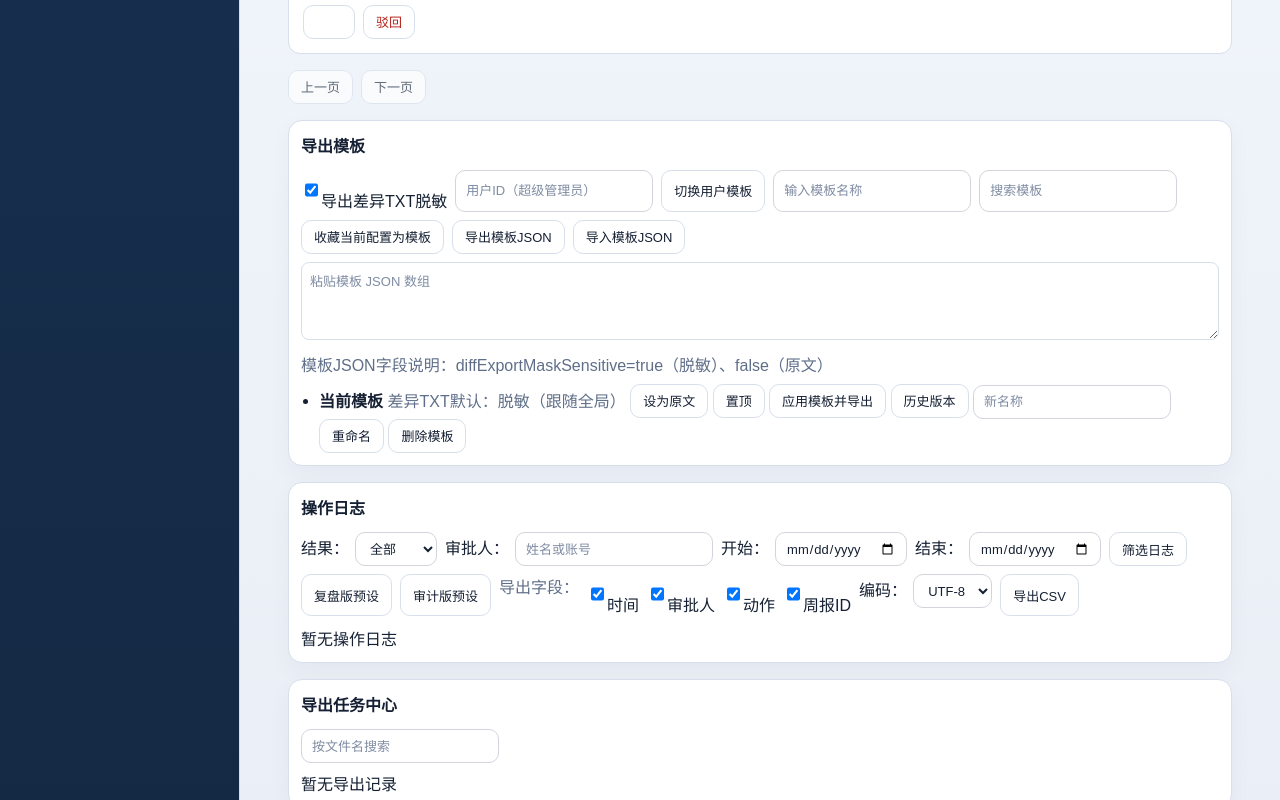
it: ManagerReviewsPage › can expand version diff details with field-level current and history values
(page scrolled)
Expected: the text "当前模板" is shown, [319,392,383,409]
Click the button with aria-label "查看模板版本-当前模板" at (930, 401), box [891,384,969,418]
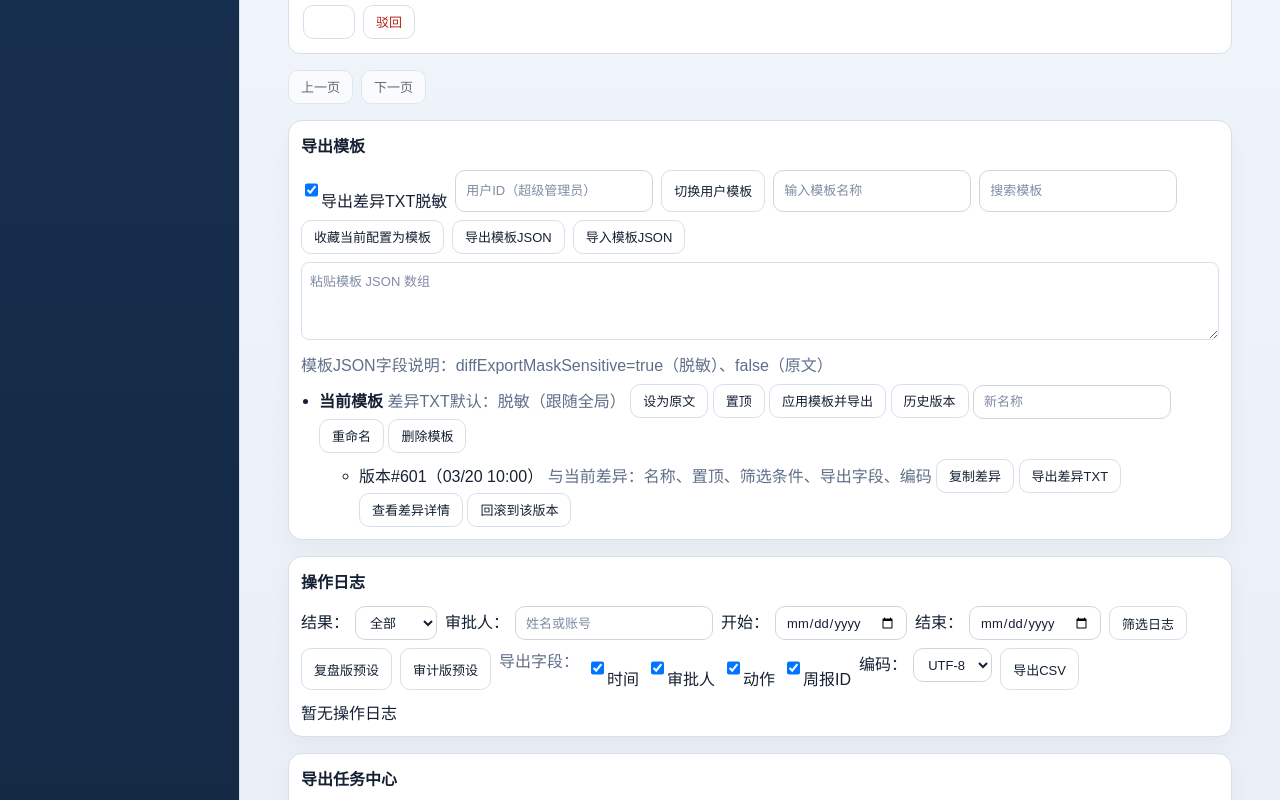
Result: the button with aria-label "查看差异详情-当前模板-601" is shown
Click the button with aria-label "查看差异详情-当前模板-601" at (411, 510), box [359,493,463,527]
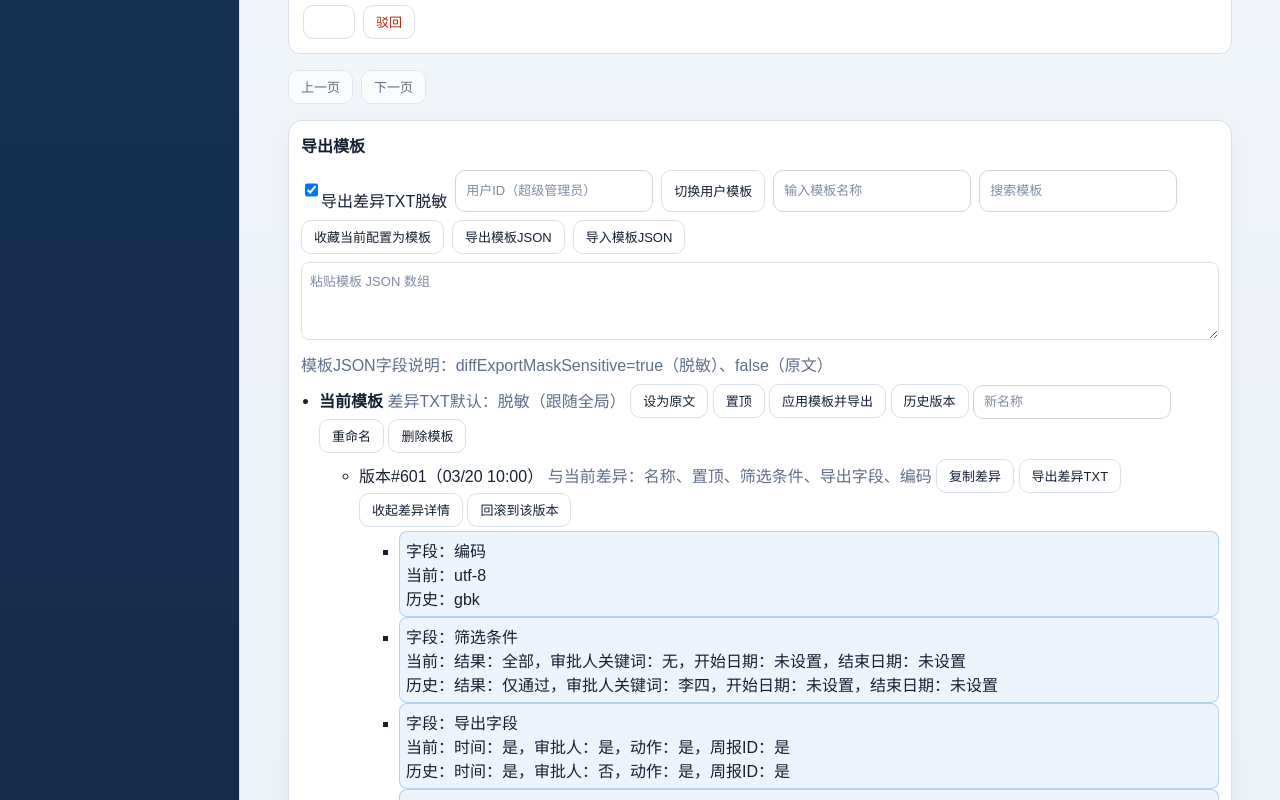
Result: the text "字段：筛选条件" is shown at [406,629,518,646]
Result: the text "当前：结果：全部，审批人关键词：无，开始日期：未设置，结束日期：未设置" is shown at [406,653,966,670]
Result: the text "历史：结果：仅通过，审批人关键词：李四，开始日期：未设置，结束日期：未设置" is shown at [406,677,998,694]
